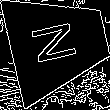N_E: (30, 19, 87, 69)
